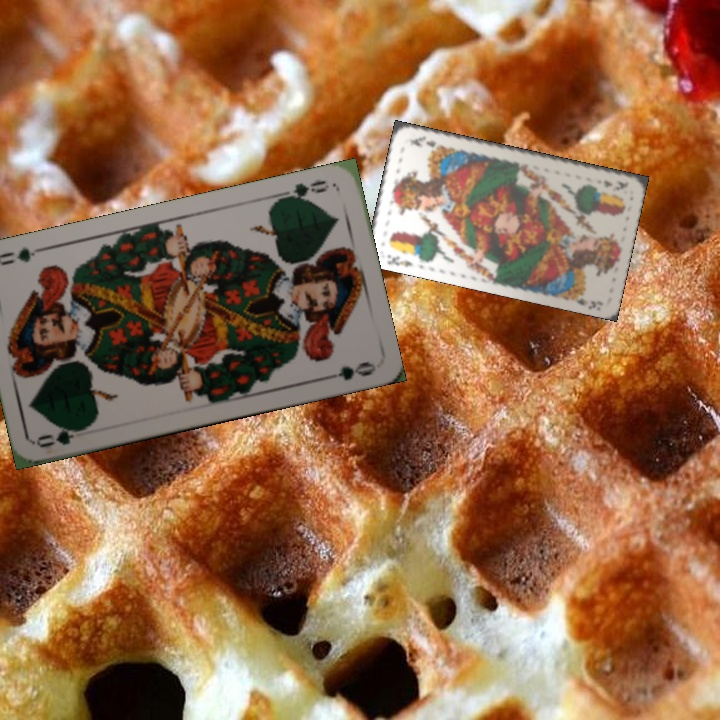EK: (383, 250, 415, 269), (599, 177, 631, 193)
GO: (34, 421, 92, 450), (276, 175, 332, 204)
